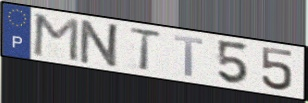5: (215, 37, 251, 87), (259, 45, 295, 92)
M: (31, 12, 81, 64)
N: (77, 18, 123, 70)
T: (127, 26, 164, 73), (172, 33, 206, 79)
